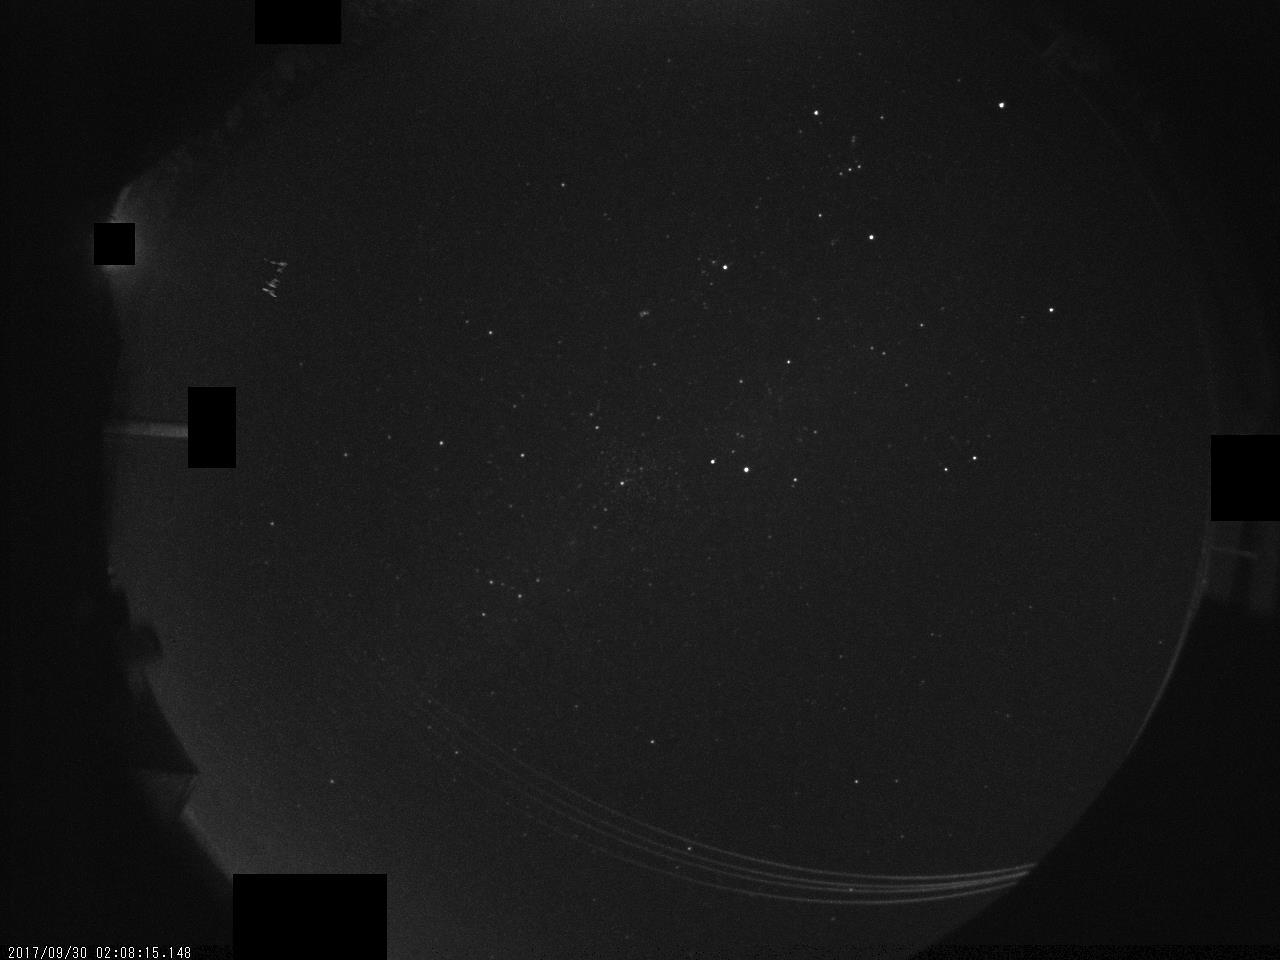TLE: (258, 257, 289, 298)
